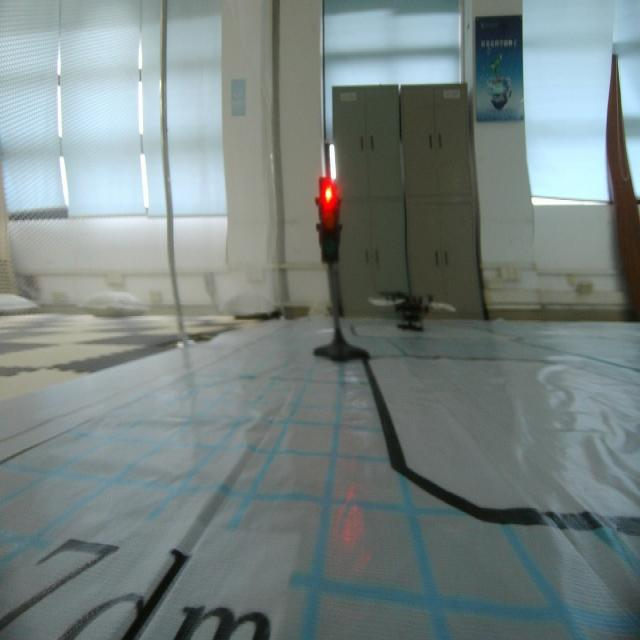red: (314, 169, 344, 271)
